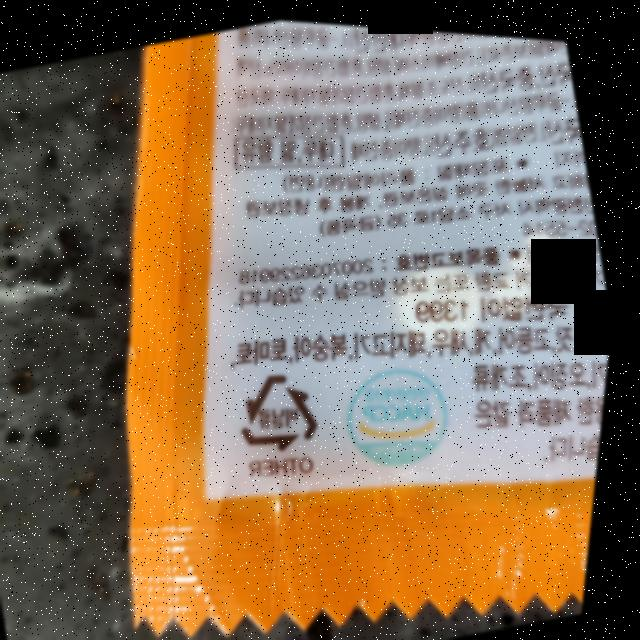Vinyl: (233, 355, 337, 461)
